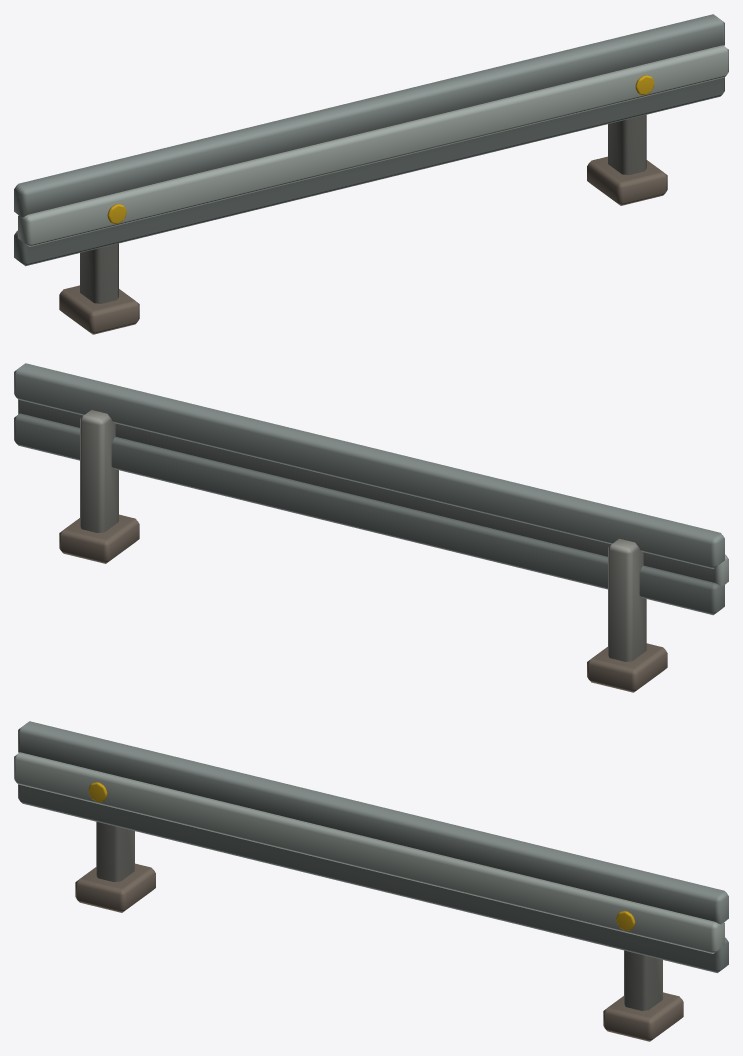
File: guardrail_kit.glb
3 views of the same model, one above another, from view 1: azimuth 30°, elevation 25°; view 2: azimuth 150°, elevation 25°; view 3: azimuth 330°, elevation 25° (orthographic).
Parts seen in each view (by area): view 1: Galvanised post; view 2: Galvanised post; view 3: Galvanised post.
Boxes of the visible parts, box(x1,y1,x2,y2) form: Galvanised post: box(14, 14, 728, 334); Galvanised post: box(14, 363, 728, 692); Galvanised post: box(14, 721, 728, 1041).
Size of the model in its own units: 4 by 0.855 by 0.357.
